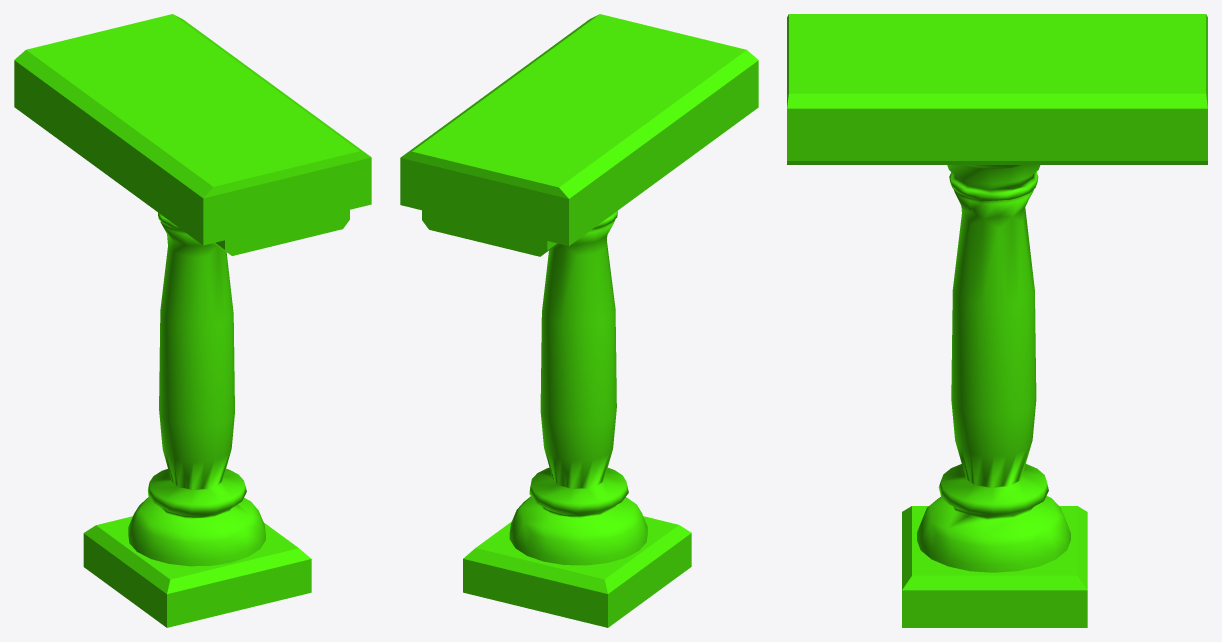
File: railing_edited_single_widertop.gltf
The picture shows the model from 3 angles, left to right: view 1: azimuth 30°, elevation 25°; view 2: azimuth 150°, elevation 25°; view 3: azimuth 270°, elevation 25°; orthographic projection. The views are drawn at different scales.
Parts seen in each view (by area): view 1: polySurface17_M_tesuri_0; view 2: polySurface17_M_tesuri_0; view 3: polySurface17_M_tesuri_0.
Part boxes in pixels (x1,y1,x2,y2): polySurface17_M_tesuri_0: [14, 14, 371, 627]; polySurface17_M_tesuri_0: [400, 14, 758, 627]; polySurface17_M_tesuri_0: [787, 14, 1207, 627].
Bounding box in the file's own units: 35.74 × 97.21 × 69.53.
Materials: 1 (1 with a texture image).
